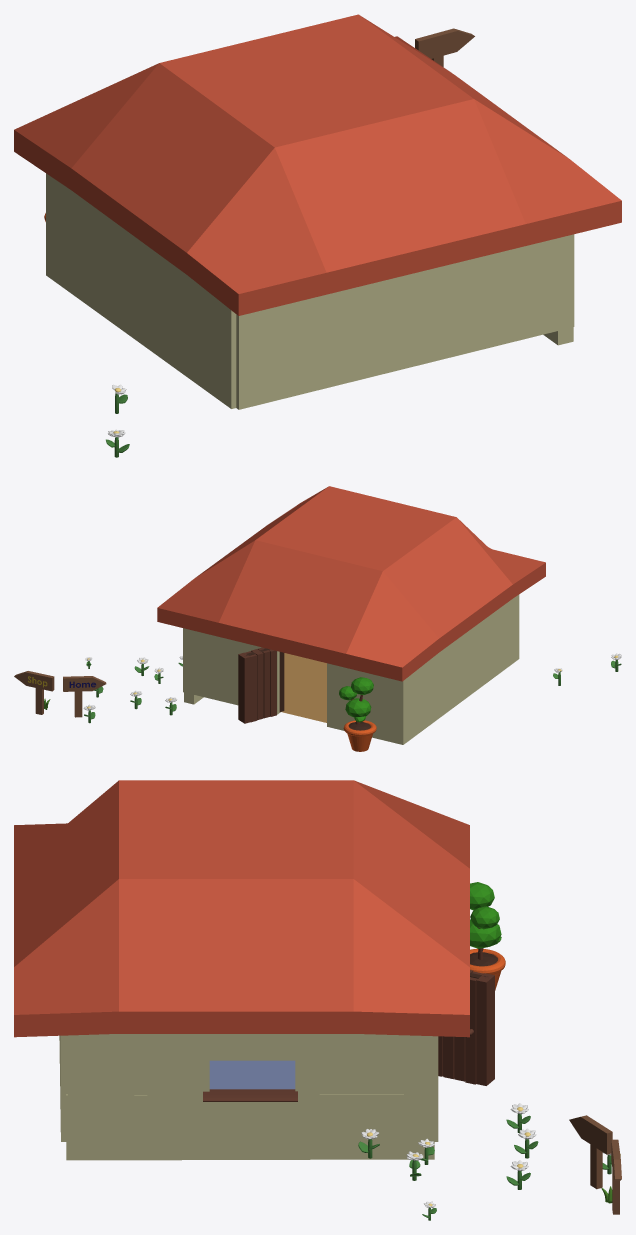
Rendered from room.glb.
The picture shows the model from 3 angles, top to bottom: view 1: azimuth 30°, elevation 25°; view 2: azimuth 150°, elevation 25°; view 3: azimuth 270°, elevation 25°; orthographic projection. The views are drawn at different scales.
Parts seen in each view (by area): view 1: Cube.1364, Cube.085, Cube.086, Cube.330, Cube.083; view 2: Cube.1364, Cube.086, Cube.083, Cube.084, Plane.004, Cube.078, Cube.331, Cube.330, Cube.080, Cube.079, Cube.082, Cube.138 (+2 smaller); view 3: Cube.1364, Cube.087, Cube.335, Cube.337, Cube.338, Cube.336, Cube.078, Cube.331, Cylinder.167, Cube.084, Cube.082, Cube.085 (+2 smaller).
Part boxes in pixels (<box>): Cube.1364: <box>14,14,621,315</box>; Cube.085: <box>236,234,574,409</box>; Cube.086: <box>55,180,236,408</box>; Cube.330: <box>415,28,474,66</box>; Cube.083: <box>46,173,55,281</box>; Cube.1364: <box>157,486,545,681</box>; Cube.086: <box>409,594,519,740</box>; Cube.083: <box>327,663,408,744</box>; Cube.084: <box>183,628,280,714</box>; Plane.004: <box>281,653,326,722</box>; Cube.078: <box>238,652,250,723</box>; Cube.331: <box>63,676,106,717</box>; Cube.330: <box>14,671,54,714</box>; Cube.080: <box>258,647,270,718</box>; Cube.079: <box>251,649,263,719</box>; Cube.082: <box>245,651,257,722</box>; Cube.138: <box>269,649,276,716</box>; Cube.1364: <box>14,780,469,1037</box>; Cube.087: <box>66,1094,434,1160</box>; Cube.335: <box>66,1034,434,1060</box>; Cube.337: <box>67,1060,209,1095</box>; Cube.338: <box>295,1060,419,1094</box>; Cube.336: <box>209,1060,295,1089</box>; Cube.078: <box>476,973,494,1085</box>; Cube.331: <box>569,1115,612,1189</box>; Cylinder.167: <box>203,1089,297,1101</box>; Cube.084: <box>420,1036,438,1141</box>; Cube.082: <box>465,971,483,1084</box>; Cube.085: <box>59,1035,67,1141</box>.
Bounding box in the file's own units: 35.55 × 12.48 × 28.05.
